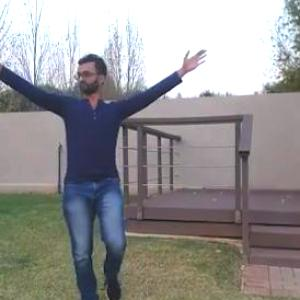takeoff: (0, 46, 218, 299)
